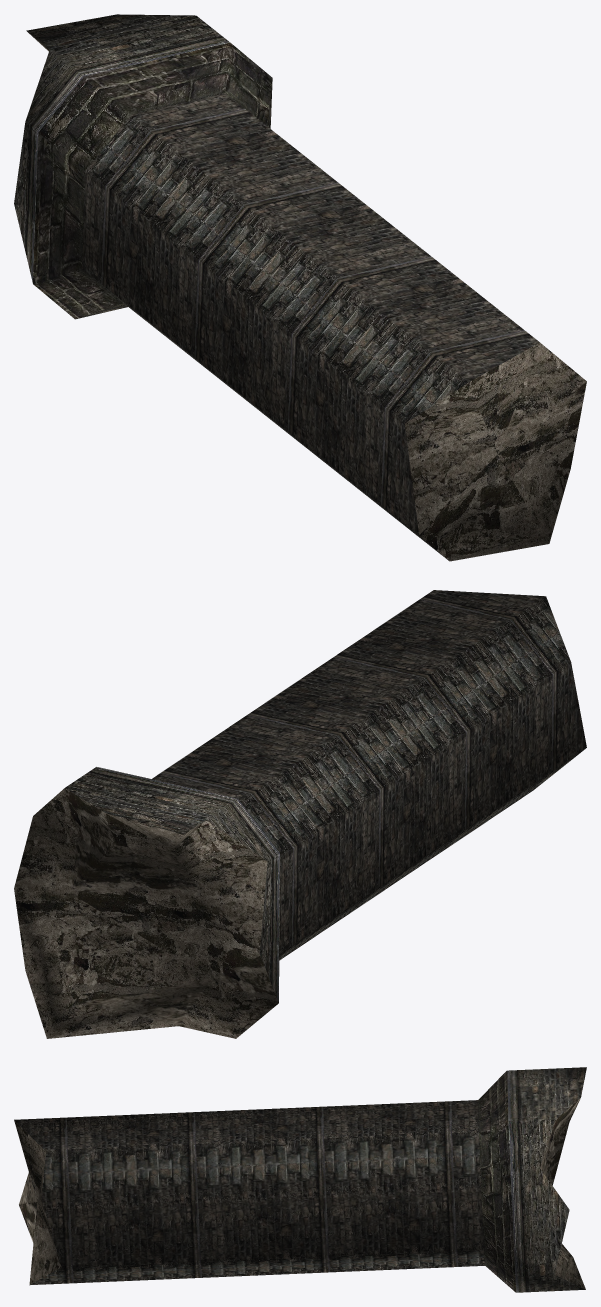
Rendered from KM_VOB_VOLFZACKE_BROKEN_COLUMN_01.glb.
The picture shows the model from 3 angles, top to bottom: view 1: azimuth 30°, elevation 25°; view 2: azimuth 150°, elevation 25°; view 3: azimuth 270°, elevation 25°; orthographic projection. The views are drawn at different scales.
Parts seen in each view (by area): view 1: Mesh; view 2: Mesh; view 3: Mesh.
Boxes of the visible parts, <box> form: Mesh: <box>14,14,586,561</box>; Mesh: <box>14,590,586,1038</box>; Mesh: <box>14,1067,586,1292</box>.
Size of the model in its own units: 2.13 by 2.16 by 6.37.
4 materials, 4 textured.
